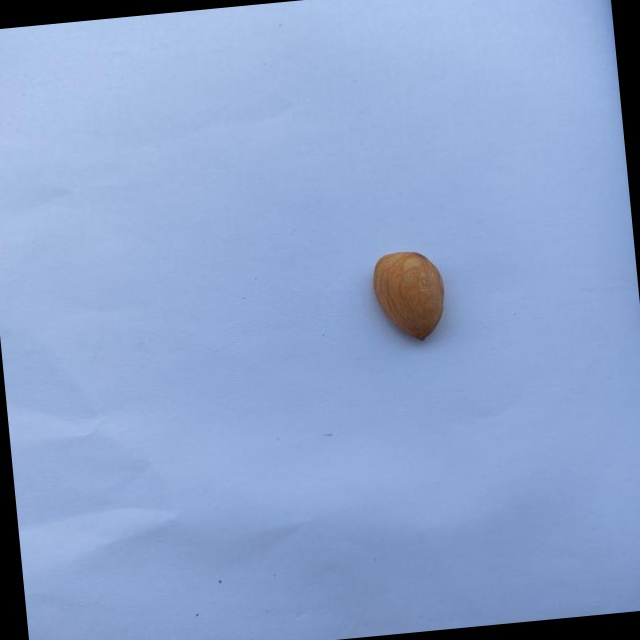grade2: (363, 245, 452, 348)
